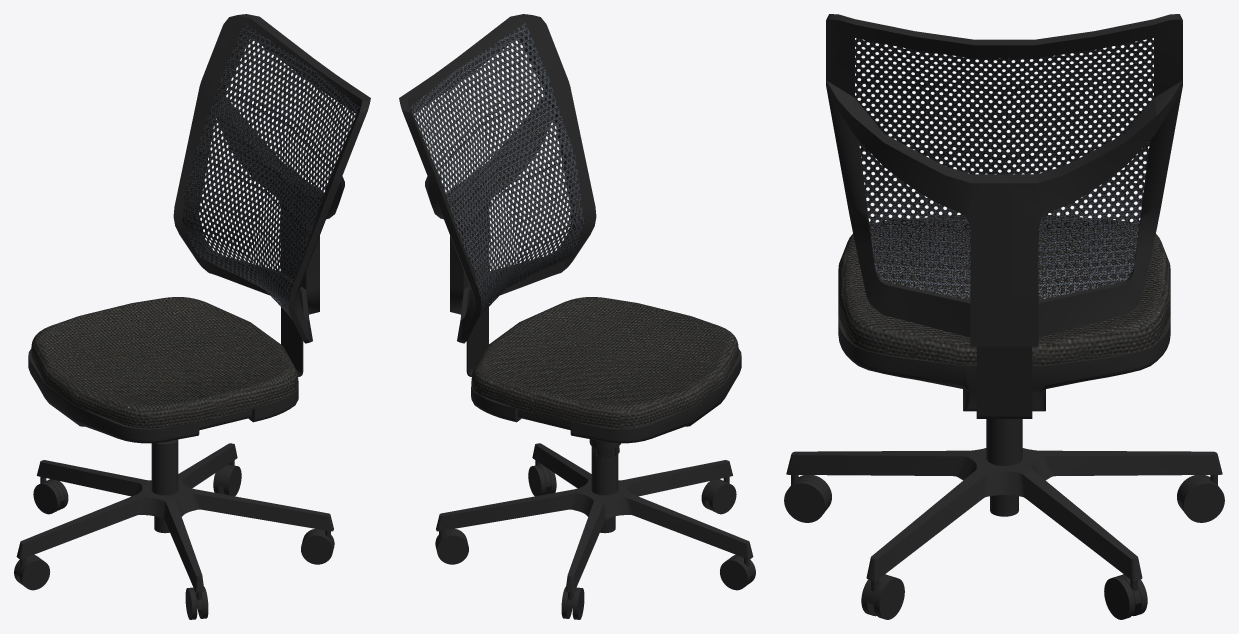
File: kompstul.glb
3 renders of one model, left to right at view 1: azimuth 30°, elevation 25°; view 2: azimuth 150°, elevation 25°; view 3: azimuth 270°, elevation 25°, orthographic. The views are drawn at different scales.
Parts seen in each view (by area): view 1: Plane002, Box005, Base, Box002, Cylinder009, Cylinder007, Cylinder005, Cylinder003, Box006, Cylinder006, Cylinder004; view 2: Plane002, Box005, Base, Box002, Cylinder009, Cylinder004, Cylinder006, Cylinder003, Box006, Cylinder005, Cylinder007; view 3: Plane002, Base, Box005, Box002, Box006, Cylinder009, Cylinder004, Cylinder007, Cylinder005, Cylinder006.
Part boxes in pixels (box(x1,y1,x2,y2)): Plane002: box(173, 14, 370, 343); Box005: box(31, 297, 298, 428); Base: box(16, 443, 333, 592); Box002: box(28, 349, 298, 443); Cylinder009: box(151, 439, 178, 533); Cylinder007: box(33, 477, 68, 514); Cylinder005: box(301, 528, 334, 564); Cylinder003: box(14, 554, 49, 590); Box006: box(281, 305, 303, 376); Cylinder006: box(213, 460, 241, 496); Cylinder004: box(185, 587, 208, 619); Plane002: box(399, 14, 596, 343); Box005: box(471, 297, 738, 428); Base: box(436, 443, 753, 592); Box002: box(471, 349, 741, 443); Cylinder009: box(591, 446, 618, 533); Cylinder004: box(701, 477, 736, 514); Cylinder006: box(435, 528, 468, 564); Cylinder003: box(720, 554, 755, 590); Box006: box(466, 304, 488, 376); Cylinder005: box(528, 460, 556, 496); Cylinder007: box(561, 587, 584, 619); Plane002: box(826, 14, 1182, 346); Base: box(786, 448, 1222, 580); Box005: box(838, 215, 1170, 365); Box002: box(838, 315, 1170, 411); Box006: box(976, 346, 1032, 418); Cylinder009: box(986, 419, 1022, 516); Cylinder004: box(784, 475, 831, 522); Cylinder007: box(1177, 475, 1224, 522); Cylinder005: box(861, 574, 904, 619); Cylinder006: box(1104, 574, 1147, 619).
Size of the model in its own units: 0.66 by 0.9479 by 0.6117.
Materials: 4 (2 with a texture image).
